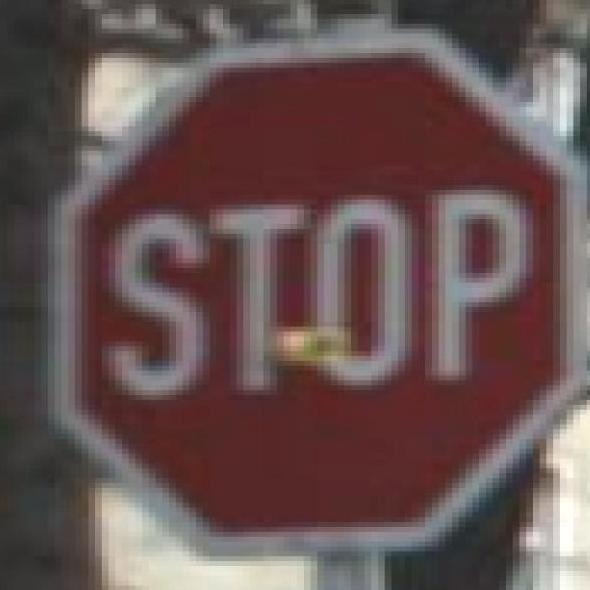stop_sign: (54, 29, 580, 556)
